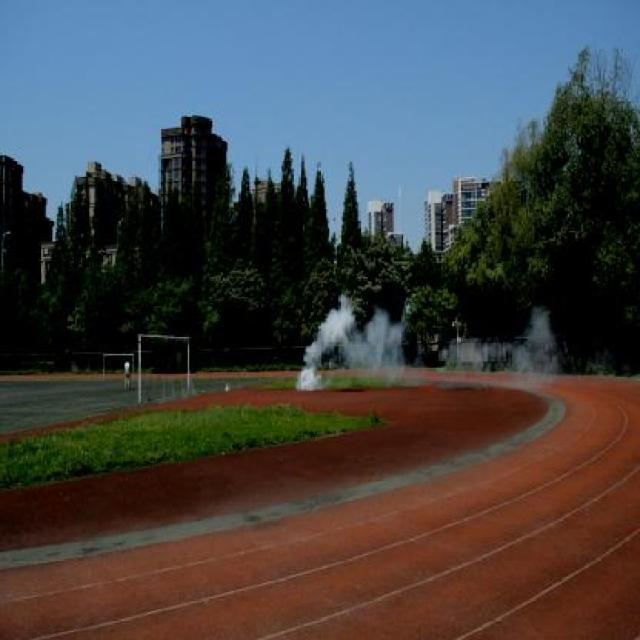Smoke: (299, 297, 555, 391)
